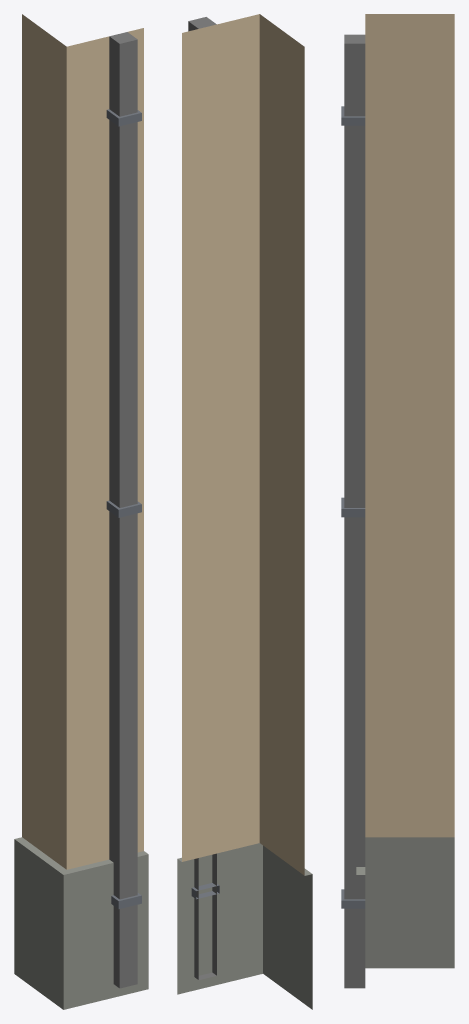
The model's file is base-c1_close.fbx.
3 renders of one model, left to right at view 1: azimuth 30°, elevation 25°; view 2: azimuth 210°, elevation 25°; view 3: azimuth 270°, elevation 25°, orthographic.
Parts seen in each view (by area): view 1: a2000/400/base-c1_close; view 2: a2000/400/base-c1_close; view 3: a2000/400/base-c1_close.
Part boxes in pixels (x1=…): a2000/400/base-c1_close: x1=14, y1=14, x2=148, y2=1009; a2000/400/base-c1_close: x1=177, y1=14, x2=312, y2=1009; a2000/400/base-c1_close: x1=341, y1=14, x2=454, y2=988.
Bounding box in the file's own units: 0.33 × 3.55 × 0.38.
